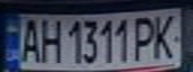1: (63, 17, 84, 64), (112, 15, 133, 62), (96, 16, 115, 63)
3: (78, 16, 100, 64)
A: (15, 15, 45, 63)
H: (36, 16, 63, 64)
K: (148, 11, 181, 60)
P: (130, 12, 160, 61)
